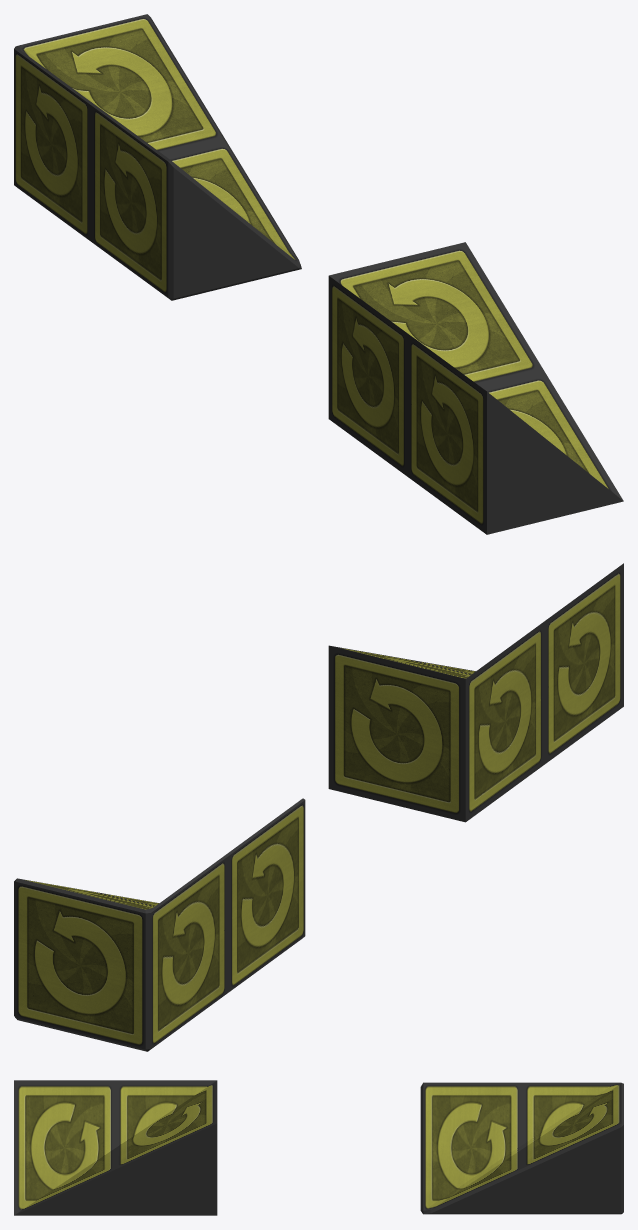
The model's file is slope.insideCorner.1x2.fbx.
3 renders of one model, top to bottom at view 1: azimuth 30°, elevation 25°; view 2: azimuth 150°, elevation 25°; view 3: azimuth 270°, elevation 25°, orthographic. The views are drawn at different scales.
Visible parts, largest first — view 1: MESH slope.insideCorner.1x2, MESH slope.insideCorner.1x2.c; view 2: MESH slope.insideCorner.1x2, MESH slope.insideCorner.1x2.c; view 3: MESH slope.insideCorner.1x2, MESH slope.insideCorner.1x2.c.
Boxes of the visible parts, <box> form: MESH slope.insideCorner.1x2: <box>328,242,623,534</box>; MESH slope.insideCorner.1x2.c: <box>14,14,301,300</box>; MESH slope.insideCorner.1x2: <box>328,563,623,822</box>; MESH slope.insideCorner.1x2.c: <box>14,798,305,1051</box>; MESH slope.insideCorner.1x2: <box>14,1080,217,1215</box>; MESH slope.insideCorner.1x2.c: <box>420,1082,623,1214</box>.
Size of what is drawn, in the model's own units: 100 by 100 by 600.
